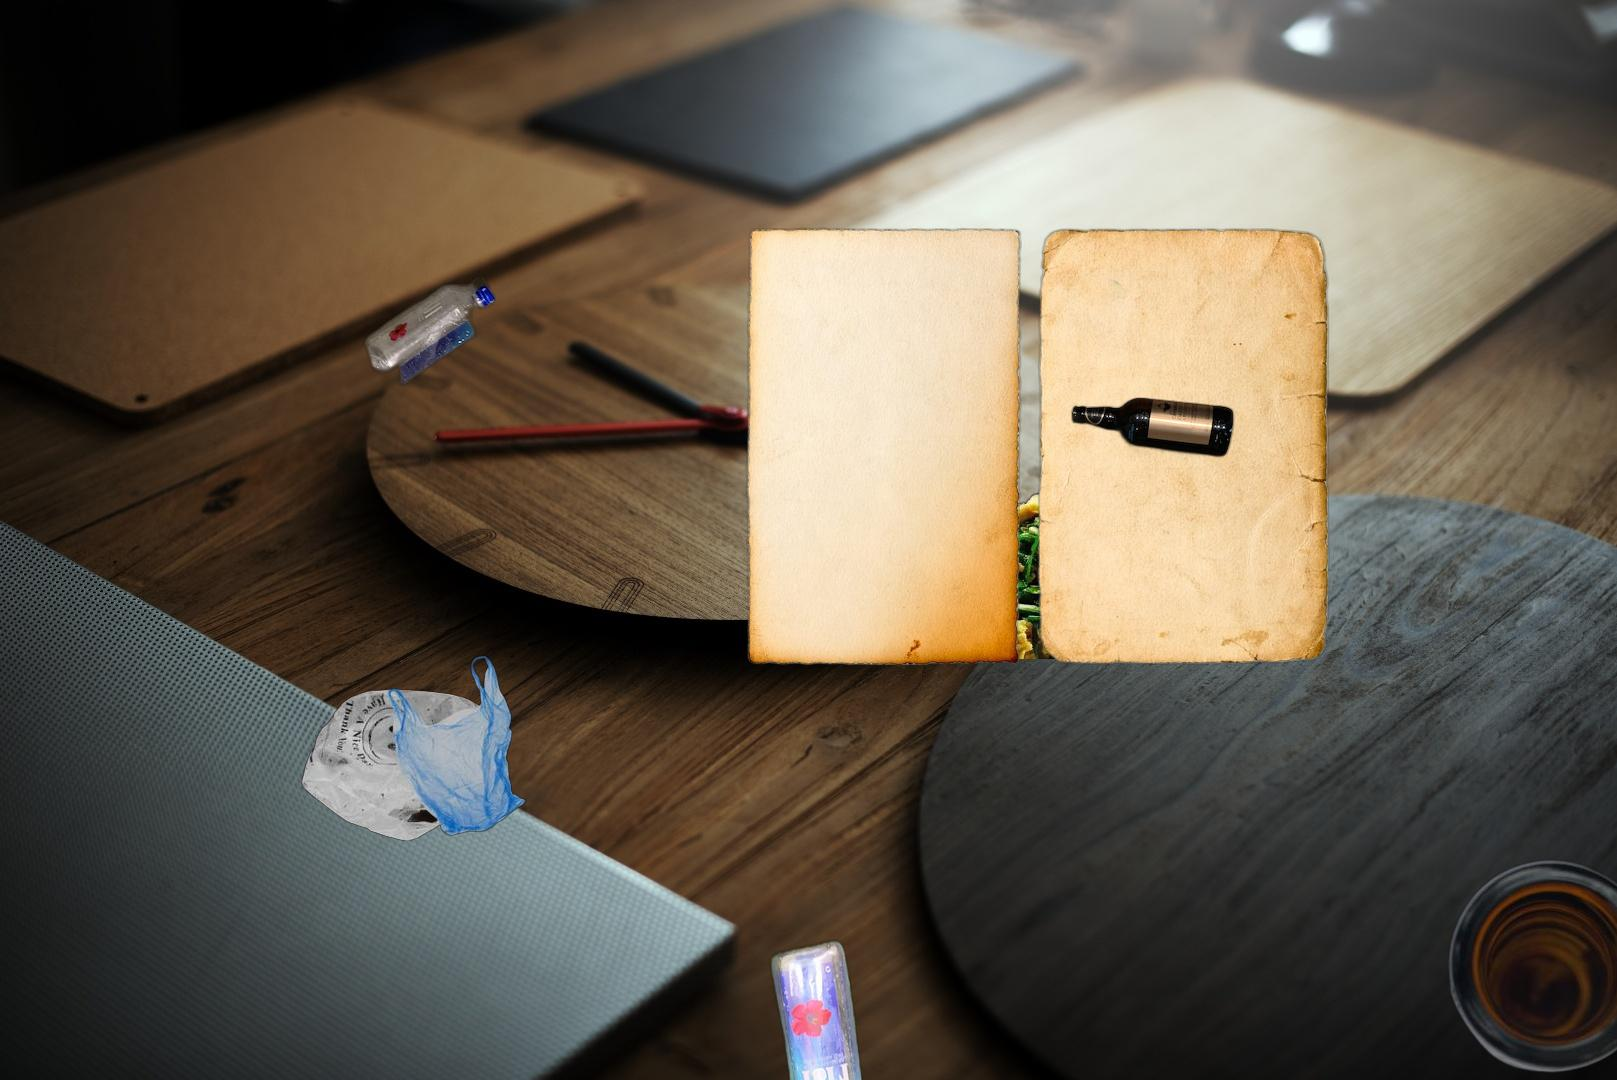biological: (934, 489, 1209, 659)
glass: (1443, 858, 1617, 1075), (1068, 394, 1237, 459)
plastic-bag: (300, 652, 527, 844)
plastic-bottles: (439, 935, 870, 1080), (361, 271, 500, 391)
trash: (1113, 268, 1333, 488)
trashbox-cardboard: (741, 224, 1348, 691)
